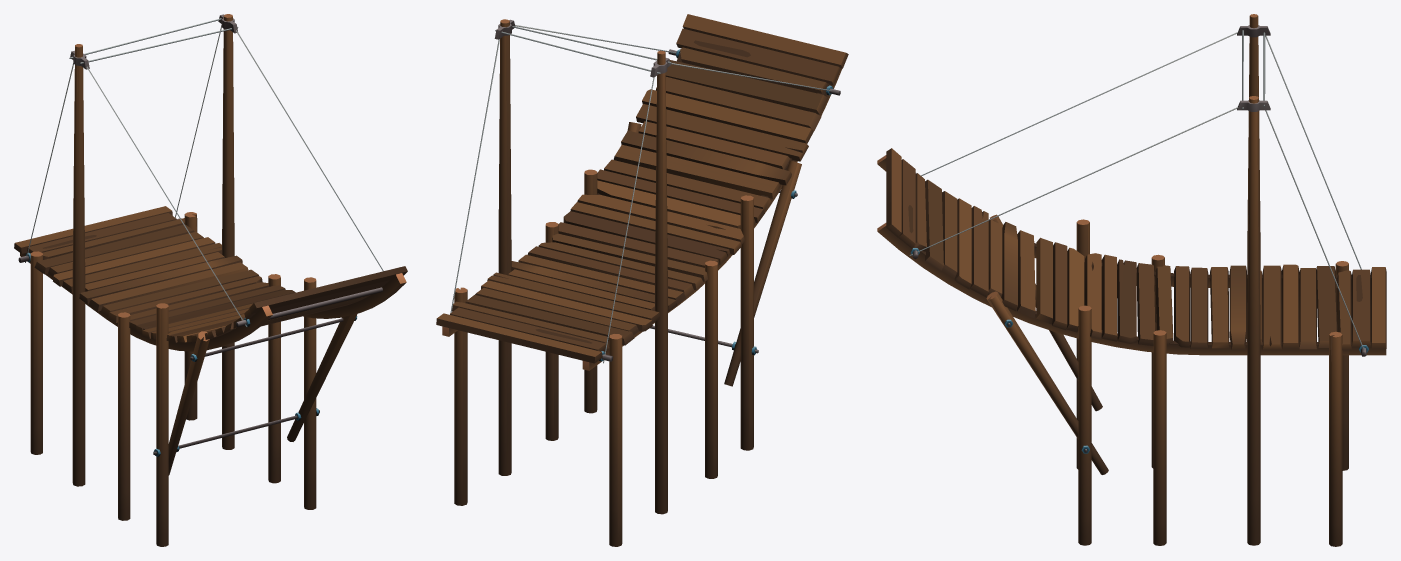
The model's file is Wooden_Ramp_1A.fbx.
3 views of the same model, side by side, from view 1: azimuth 30°, elevation 25°; view 2: azimuth 150°, elevation 25°; view 3: azimuth 270°, elevation 25° (orthographic). The views are drawn at different scales.
Parts seen in each view (by area): view 1: Wooden_Ramp_1A; view 2: Wooden_Ramp_1A; view 3: Wooden_Ramp_1A.
Boxes of the visible parts, x1,y1,x2,y2 form: Wooden_Ramp_1A: [14, 14, 407, 546]; Wooden_Ramp_1A: [436, 14, 848, 546]; Wooden_Ramp_1A: [877, 14, 1386, 546].
Size of the model in its own units: 451 by 1127 by 1152.
